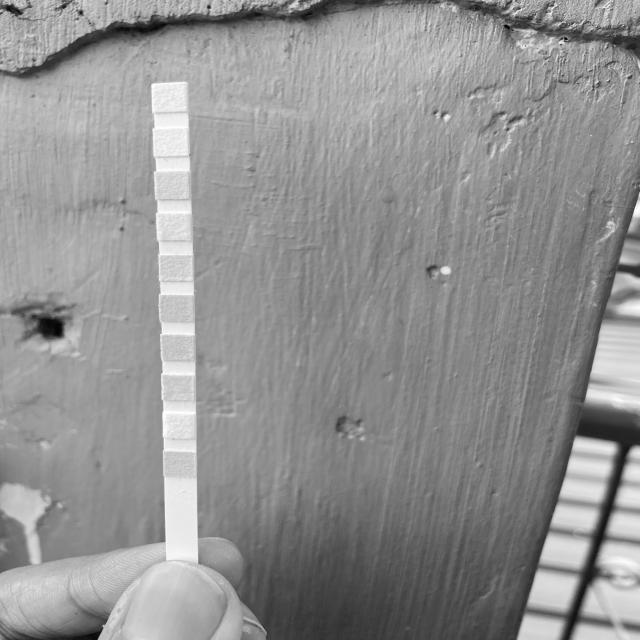Bilirubin: (164, 413, 195, 438)
Blood: (161, 296, 193, 320)
Glucose: (165, 452, 196, 476)
Ketone: (163, 374, 194, 400)
Leukocytes: (153, 85, 186, 111)
Nitrite: (155, 128, 188, 156)
Protein: (158, 214, 190, 240)
SpGravity: (163, 336, 194, 360)
Urobilinogen: (156, 173, 188, 198)
background: (0, 0, 640, 640)
pH: (160, 255, 193, 280)
strip: (151, 82, 200, 558)
